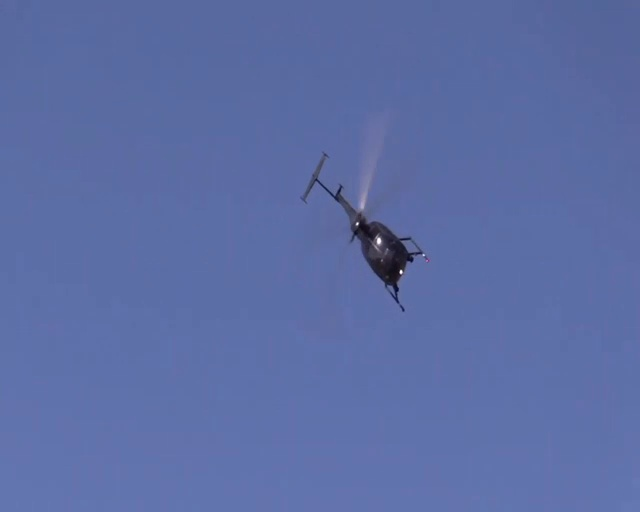HELICOPTER: (297, 150, 427, 315)
